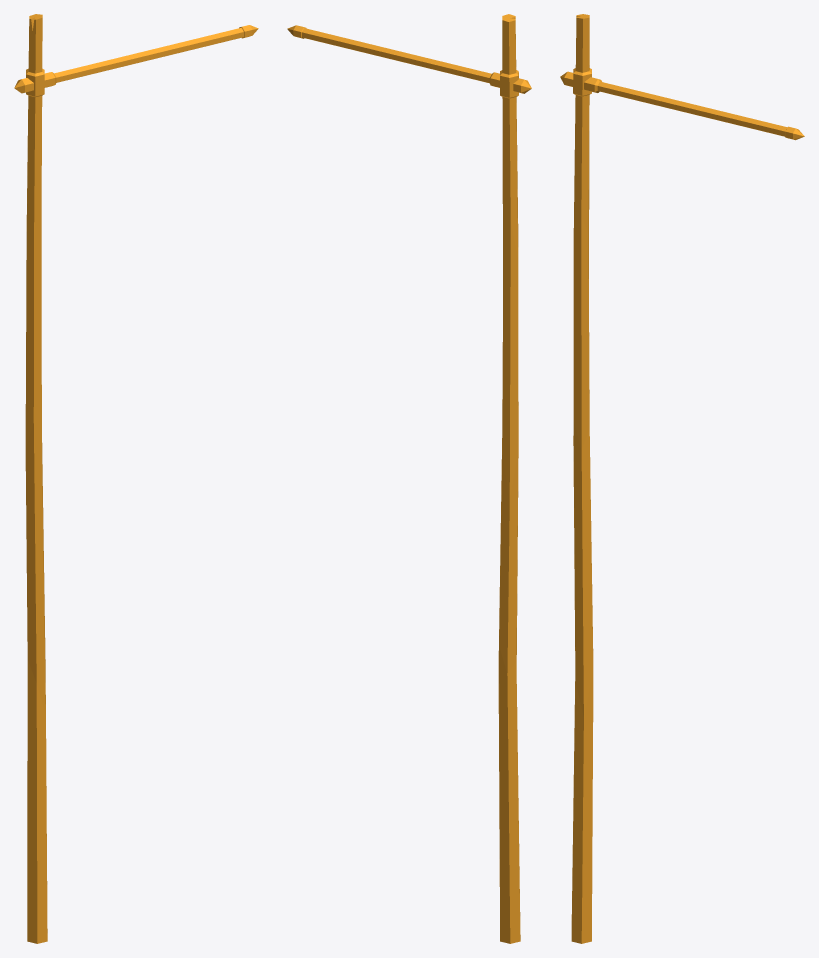
File: SM_Flag_Stand_Wood_T_D_Fantasy.fbx
3 renders of one model, left to right at view 1: azimuth 30°, elevation 25°; view 2: azimuth 150°, elevation 25°; view 3: azimuth 330°, elevation 25°, orthographic.
Visible parts, largest first — view 1: flag-stand-wood-t-d-fantasy; view 2: flag-stand-wood-t-d-fantasy; view 3: flag-stand-wood-t-d-fantasy.
Part boxes in pixels (x1,y1,x2,y2): flag-stand-wood-t-d-fantasy: (14, 14, 258, 943); flag-stand-wood-t-d-fantasy: (287, 14, 531, 943); flag-stand-wood-t-d-fantasy: (560, 14, 804, 943).
Bounding box in the file's own units: 1.47 × 5.28 × 0.1175.
